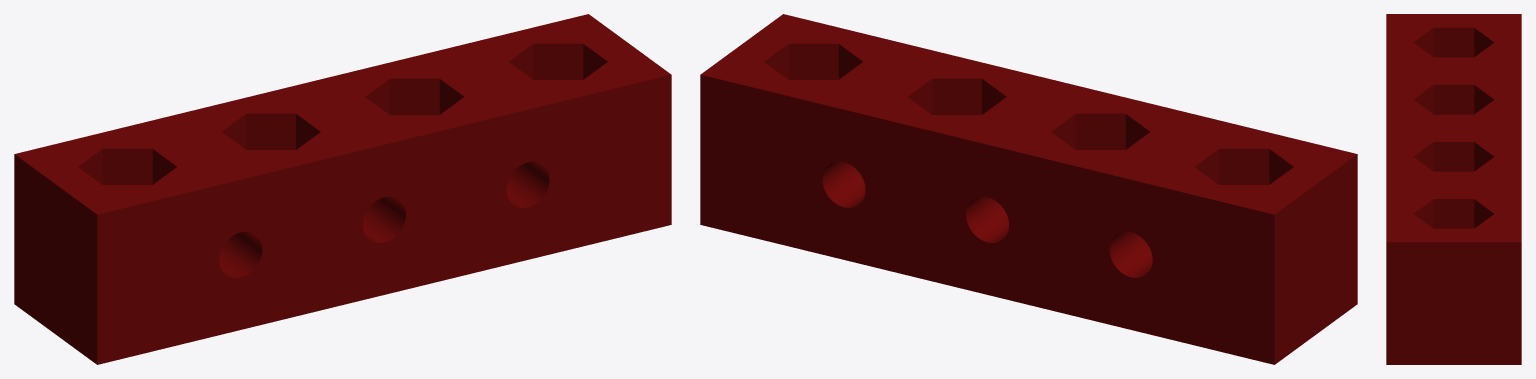
The model's file is I_Piece_4_hole__3_side_hole.glb.
3 views of the same model, side by side, from view 1: azimuth 30°, elevation 25°; view 2: azimuth 150°, elevation 25°; view 3: azimuth 270°, elevation 25° (orthographic). The views are drawn at different scales.
Visible parts, largest first — view 1: main.001; view 2: main.001; view 3: main.001.
Boxes of the visible parts, bbox=[...] form: main.001: bbox=[14, 14, 671, 364]; main.001: bbox=[700, 14, 1357, 364]; main.001: bbox=[1386, 14, 1521, 364].
Bounding box in the file's own units: 0.04 × 0.01 × 0.01.
